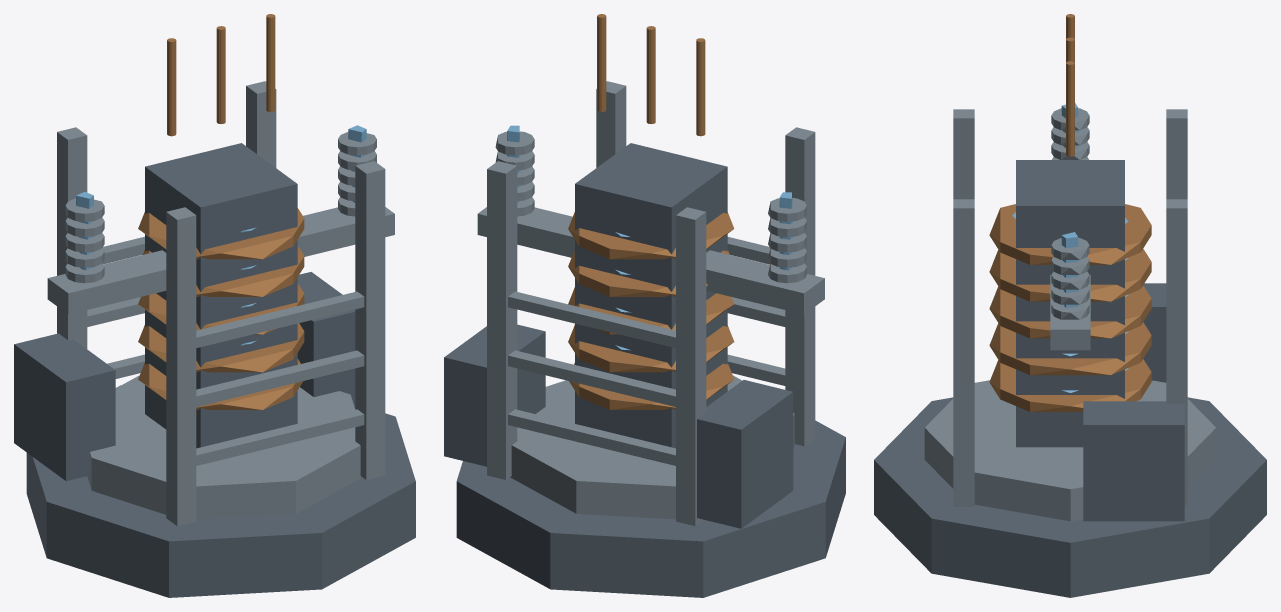
Rendered from relay_t1_d0.glb.
3 renders of one model, left to right at view 1: azimuth 30°, elevation 25°; view 2: azimuth 150°, elevation 25°; view 3: azimuth 270°, elevation 25°, orthographic. The views are drawn at different scales.
Visible parts, largest first — view 1: ROOT_ARMOR_GEOMETRY; view 2: ROOT_ARMOR_GEOMETRY; view 3: ROOT_ARMOR_GEOMETRY.
Part boxes in pixels (box(x1,y1,x2,y2)): ROOT_ARMOR_GEOMETRY: box(14, 14, 415, 597); ROOT_ARMOR_GEOMETRY: box(444, 14, 845, 597); ROOT_ARMOR_GEOMETRY: box(874, 14, 1266, 597).
Size of the model in its own units: 1.55 by 2.07 by 1.55.
